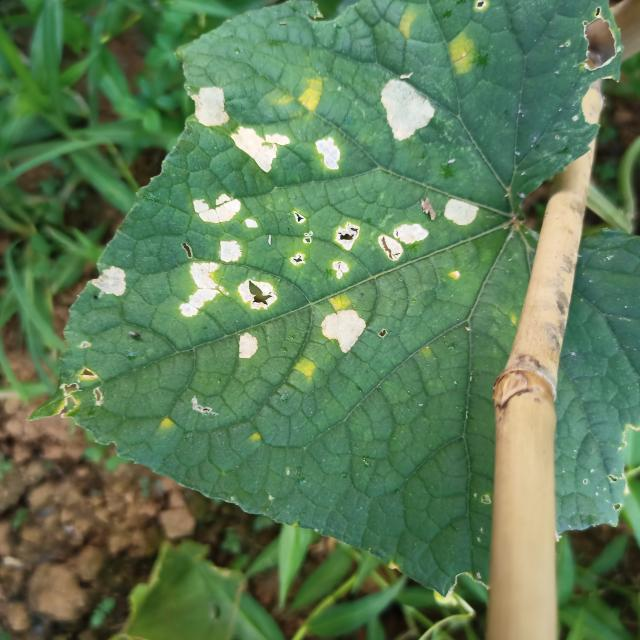disease_cucumber: (172, 189, 434, 363), (374, 71, 442, 149), (232, 124, 292, 178), (443, 31, 485, 86), (185, 82, 231, 130), (306, 134, 351, 180), (439, 191, 487, 234), (85, 265, 132, 302), (284, 77, 332, 112), (394, 4, 428, 44), (290, 351, 324, 387), (325, 287, 355, 317)
